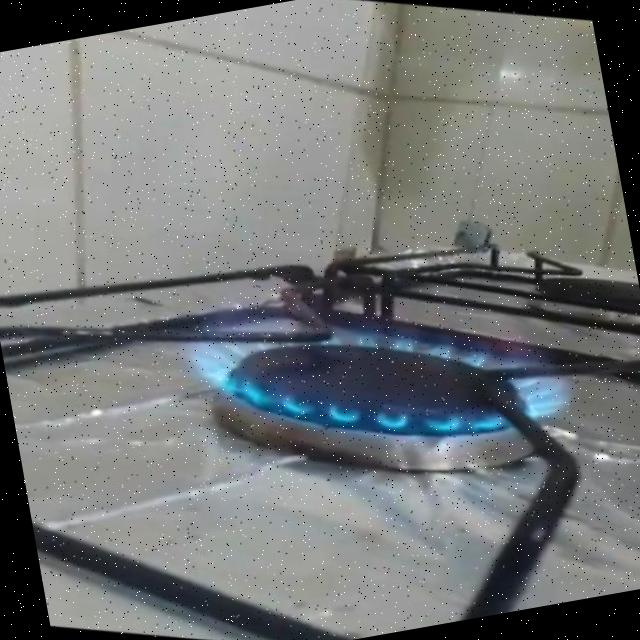fire: (158, 195, 610, 522)
